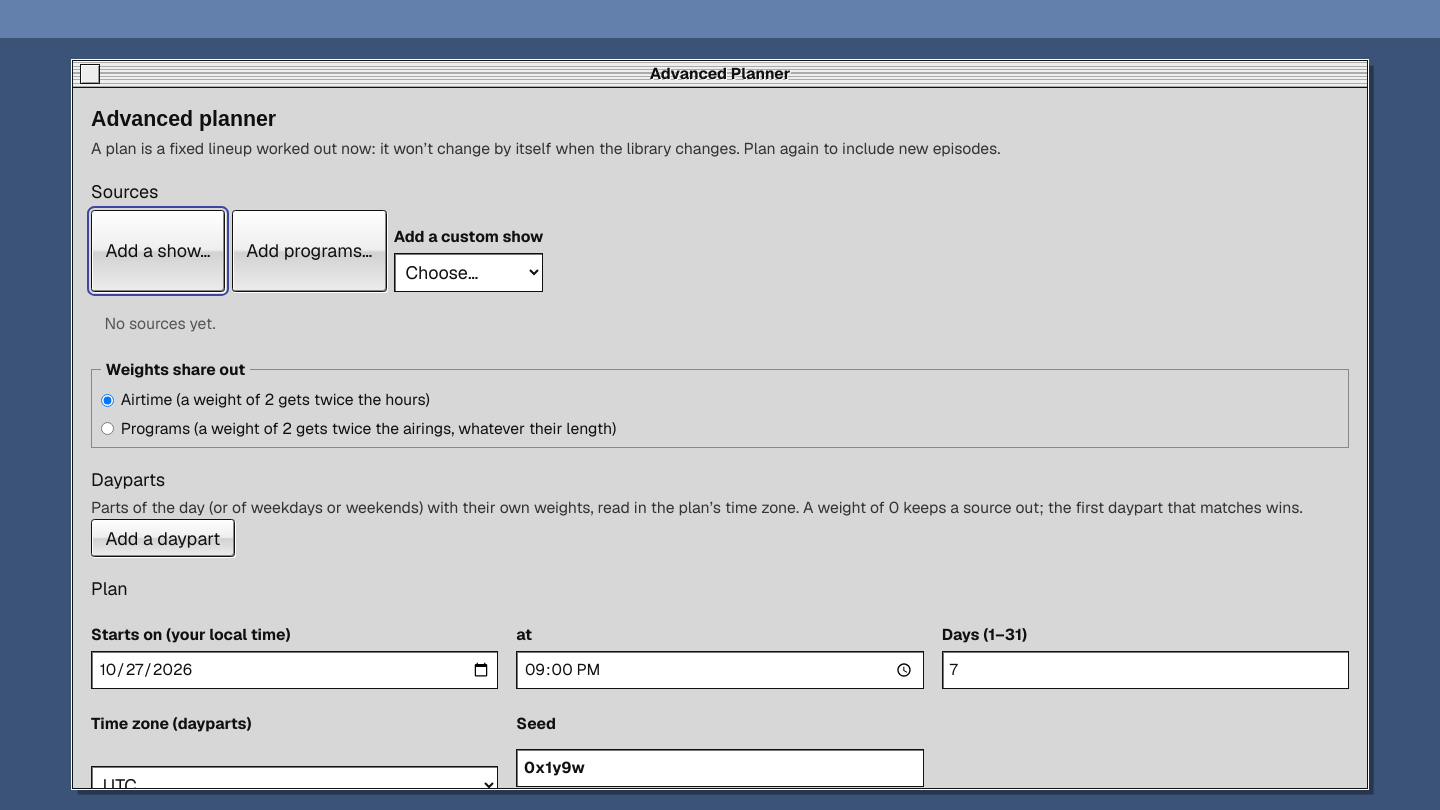
Test: PlannerDialog › won’t replace a lineup with unsaved desk edits or a slot schedule
The width and height of the screenshot is (1440, 810).
Select "Sitcoms" in the dropdown labelled "Add a custom show" at (469, 273), box [394,253,543,292]
(page scrolled)
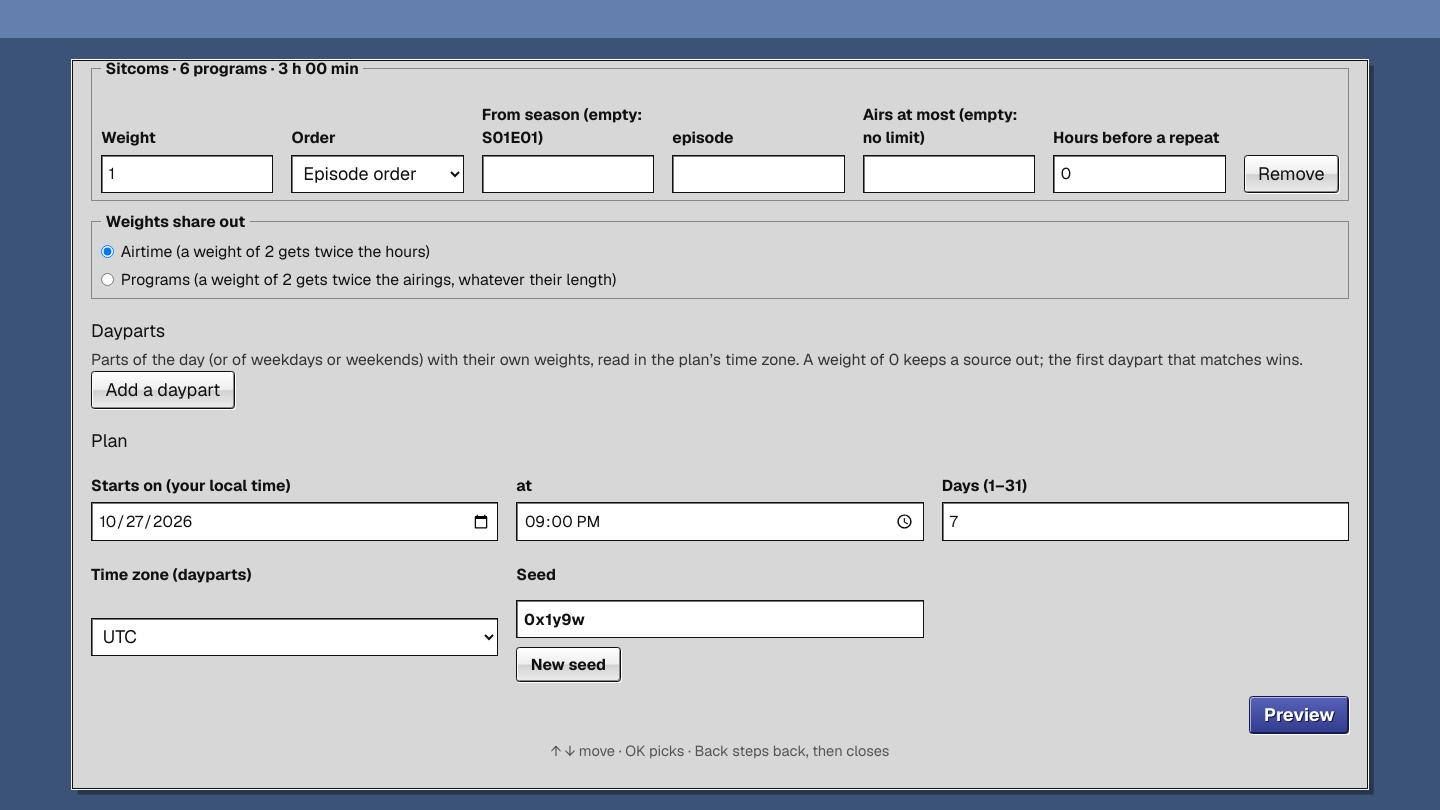
expect the element "Sitcoms" is shown: met, box [91,60,1349,201]
Click the button "Preview".
click(1299, 715)  # box [1249,696,1349,734]
(page scrolled)
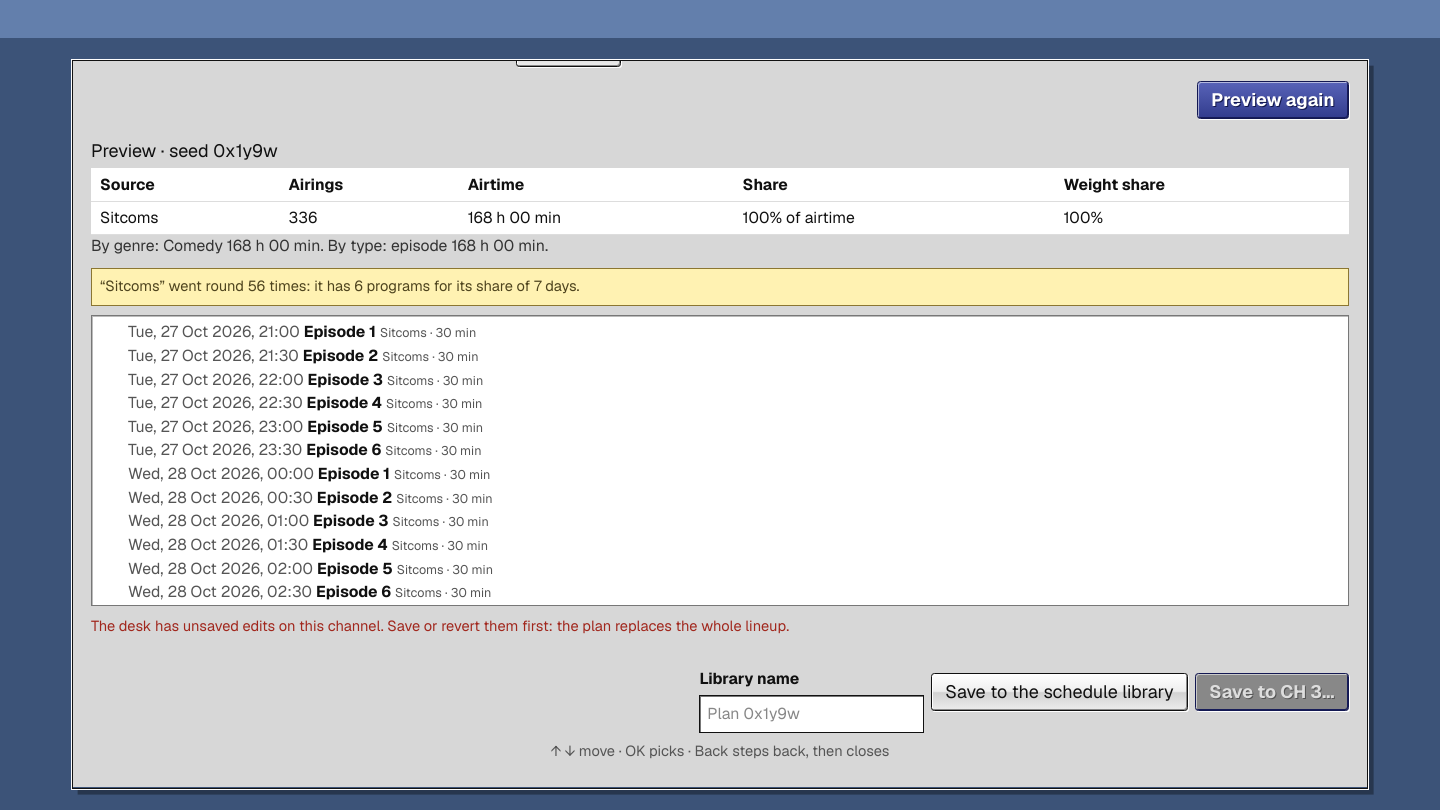
expect the text "unsaved edits on this channel" is shown: met, box [91,616,789,635]
expect the button "Save to CH 3…" is disabled: met, box [1195,673,1349,711]
